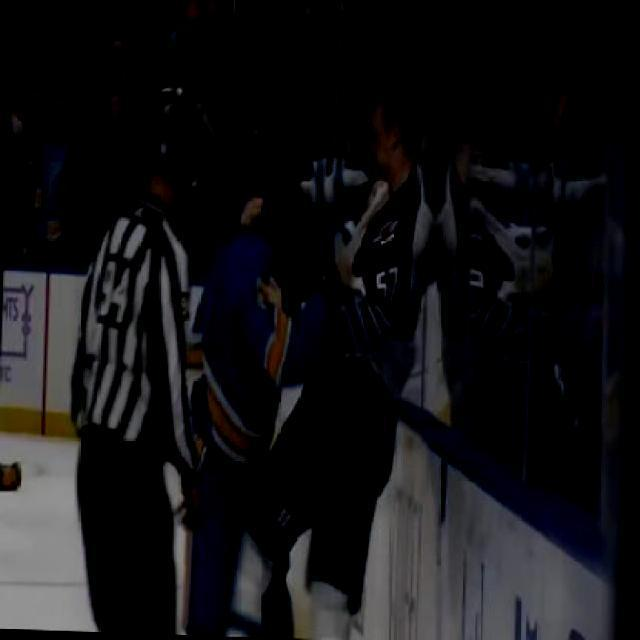fight: (188, 66, 434, 639)
